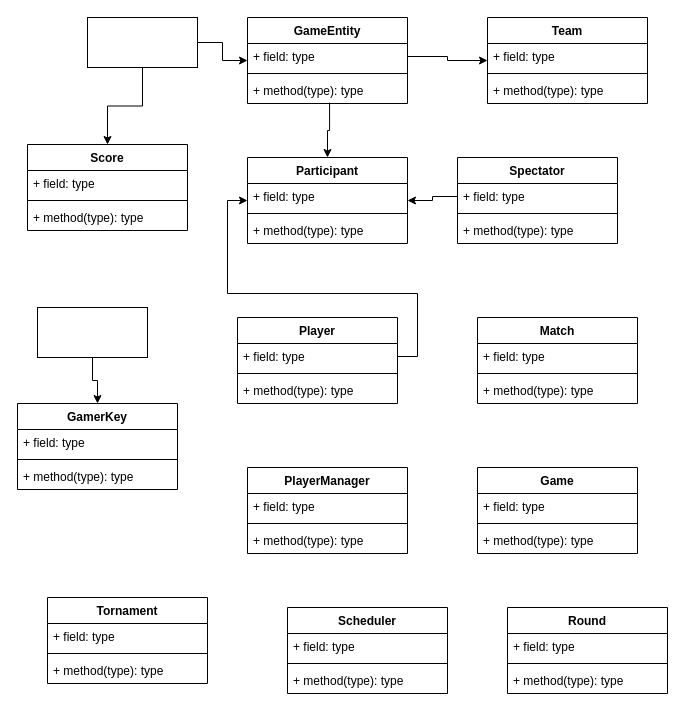
Some shapes in this 685 by 714 pixel diagram are drawn without their labels. The shapes that lost their labels are listed below. From the top down, each one's centre as x and y in pixels, then its label:
At (142,42): "«interface» IDescribe".
At (92,332): "«interface» ICompareable".
